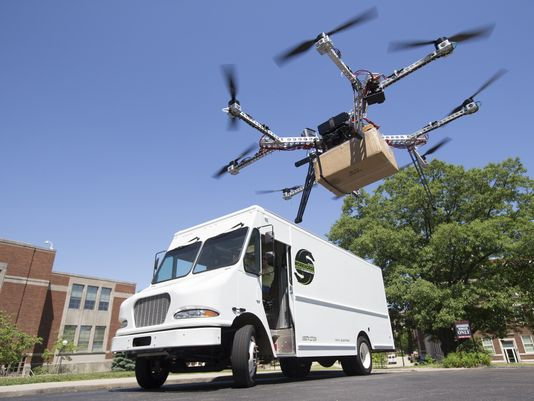drone: (210, 5, 510, 227)
